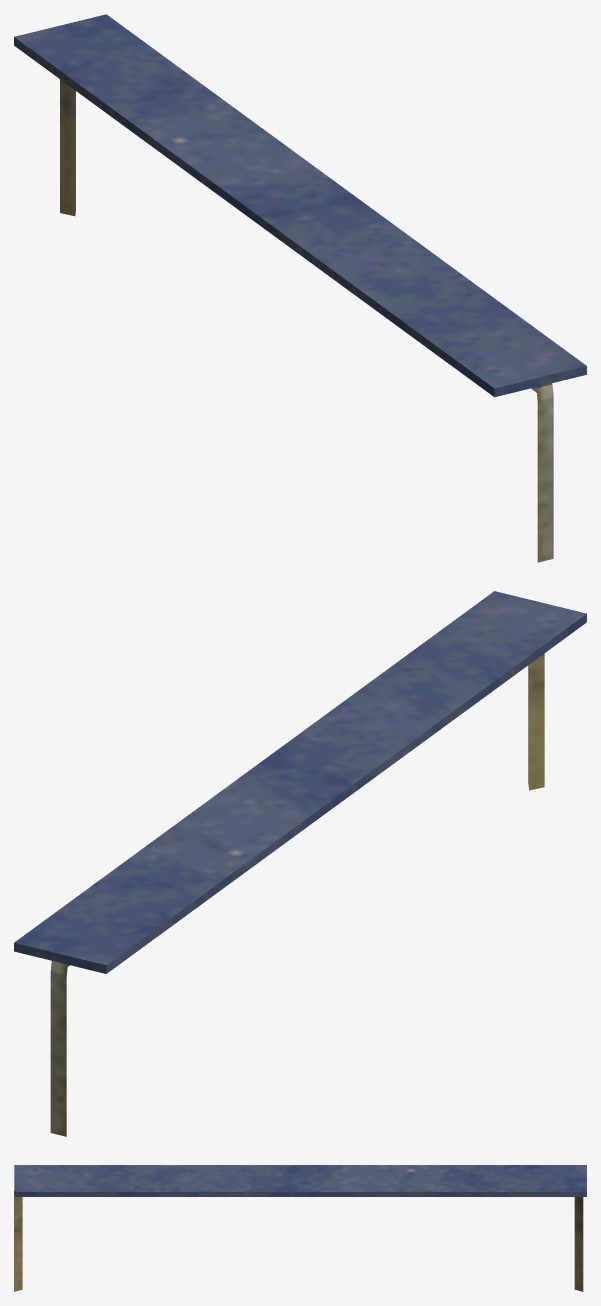
The model's file is Urban_BusstopBenchLongAlt_Model.fbx.
The picture shows the model from 3 angles, top to bottom: view 1: azimuth 30°, elevation 25°; view 2: azimuth 150°, elevation 25°; view 3: azimuth 270°, elevation 25°; orthographic projection. The views are drawn at different scales.
Parts seen in each view (by area): view 1: Urban_BusstopBenchLongAlt_Mesh; view 2: Urban_BusstopBenchLongAlt_Mesh; view 3: Urban_BusstopBenchLongAlt_Mesh.
Boxes of the visible parts, x1,y1,x2,y2 form: Urban_BusstopBenchLongAlt_Mesh: (14, 14, 586, 562); Urban_BusstopBenchLongAlt_Mesh: (14, 591, 586, 1136); Urban_BusstopBenchLongAlt_Mesh: (14, 1165, 586, 1291).
Bounding box in the file's own units: 0.4 × 0.7619 × 3.6.
